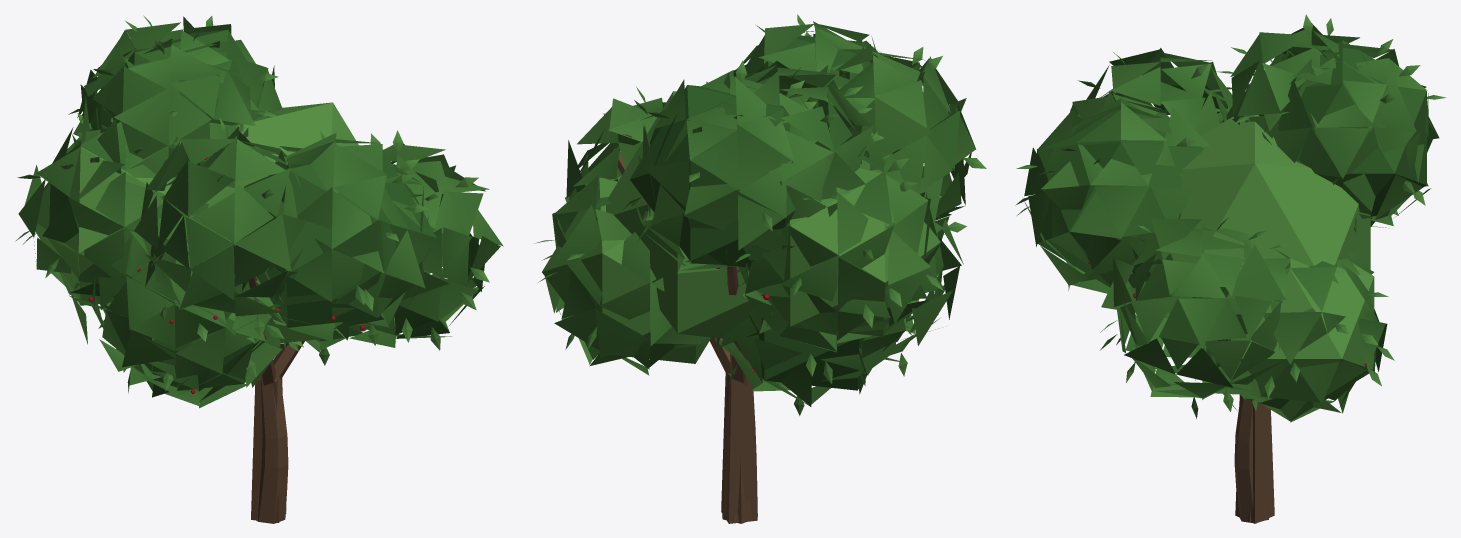
Rendered from cherry.glb.
3 views of the same model, side by side, from view 1: azimuth 30°, elevation 25°; view 2: azimuth 150°, elevation 25°; view 3: azimuth 270°, elevation 25° (orthographic). The views are drawn at different scales.
Parts seen in each view (by area): view 1: leaves (×3), trunk; view 2: leaves (×3), trunk; view 3: leaves (×3), trunk.
Part boxes in pixels (x1,y1,x2,y2): leaves (×3): (15,15,503,522); trunk: (248,277,304,523); leaves (×3): (534,14,986,523); trunk: (609,148,757,522); leaves (×3): (1015,14,1446,523); trunk: (1234,272,1269,522).
Bounding box in the file's own units: 0.8747 × 1 × 0.8479.
